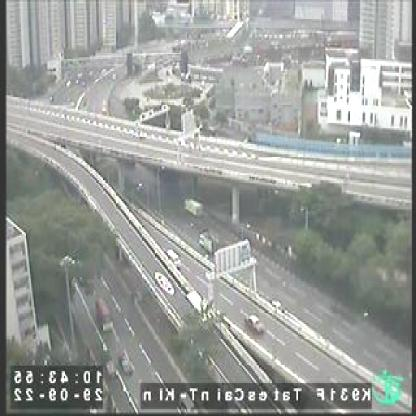Car: (246, 310, 268, 338), (166, 244, 184, 269), (116, 349, 131, 376)
Minibus: (96, 296, 116, 333)
Truck: (199, 227, 222, 253), (184, 196, 206, 218)
